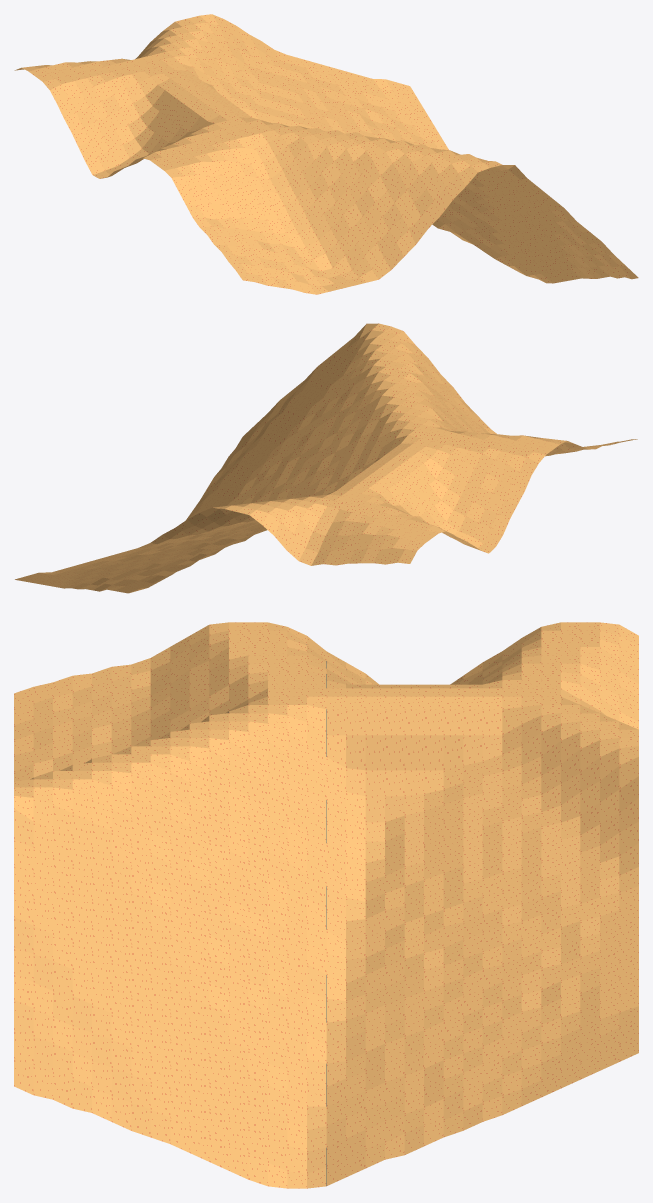
File: map_chunked_034.gltf
The picture shows the model from 3 angles, top to bottom: view 1: azimuth 30°, elevation 25°; view 2: azimuth 150°, elevation 25°; view 3: azimuth 270°, elevation 25°; orthographic projection. The views are drawn at different scales.
Parts seen in each view (by area): view 1: map_chunked.034; view 2: map_chunked.034; view 3: map_chunked.034.
Part boxes in pixels (box(x1,y1,x2,y2)): map_chunked.034: box(14, 14, 638, 294); map_chunked.034: box(15, 323, 637, 593); map_chunked.034: box(14, 622, 638, 1188).
Size of the model in its own units: 32 by 17.07 by 32.
Materials: 1 (1 with a texture image).
